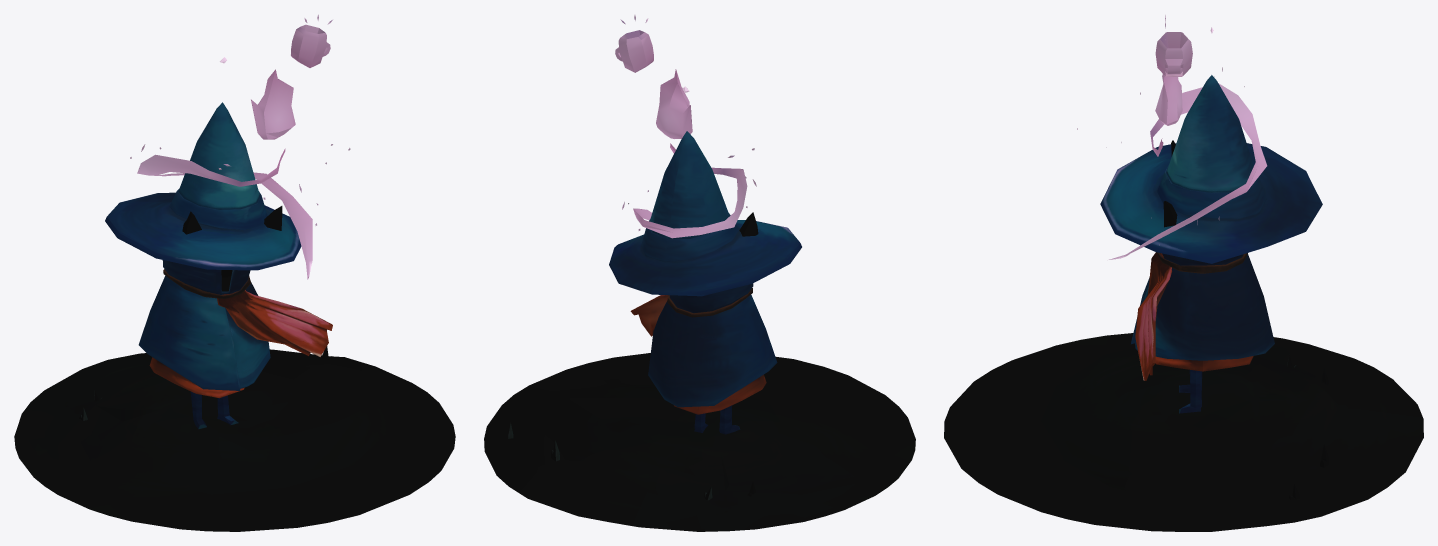
Rendered from wizard.glb.
3 renders of one model, left to right at view 1: azimuth 30°, elevation 25°; view 2: azimuth 150°, elevation 25°; view 3: azimuth 270°, elevation 25°, orthographic. The views are drawn at different scales.
Visible parts, largest first — view 1: Circle.000; view 2: Circle.000; view 3: Circle.000.
Boxes of the visible parts, left/top/right/bottom form: Circle.000: left=14, top=14, right=455, bottom=531; Circle.000: left=484, top=15, right=915, bottom=531; Circle.000: left=944, top=15, right=1423, bottom=531.
Bounding box in the file's own units: 11.52 × 11.96 × 11.49.
Materials: 1 (1 with a texture image).
